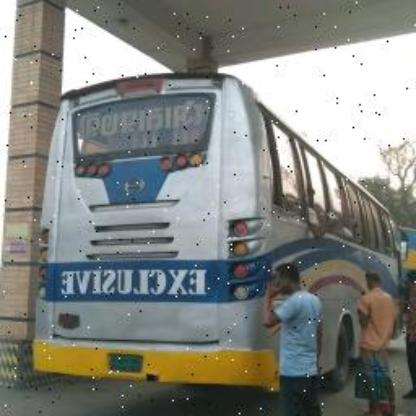bus: (28, 65, 406, 375)
